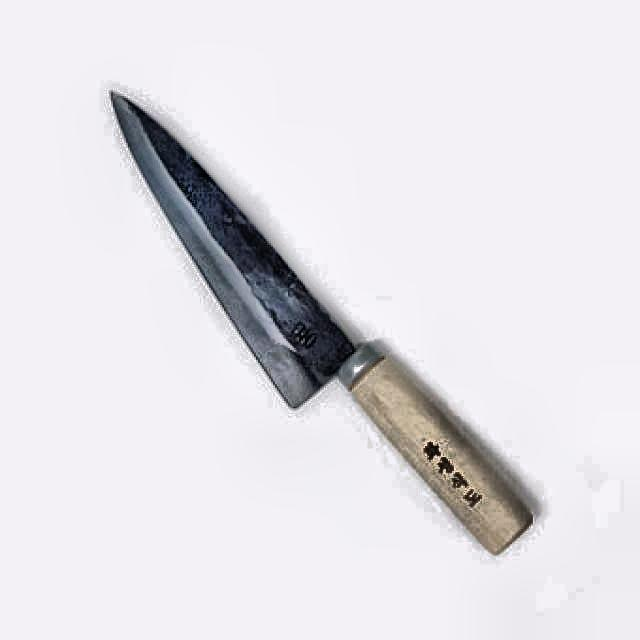knife: (109, 93, 534, 558)
